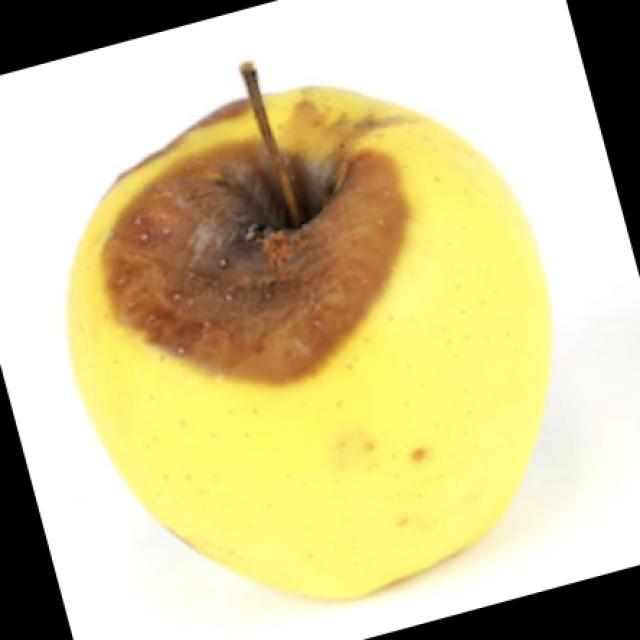Rotten: (92, 78, 555, 590)
